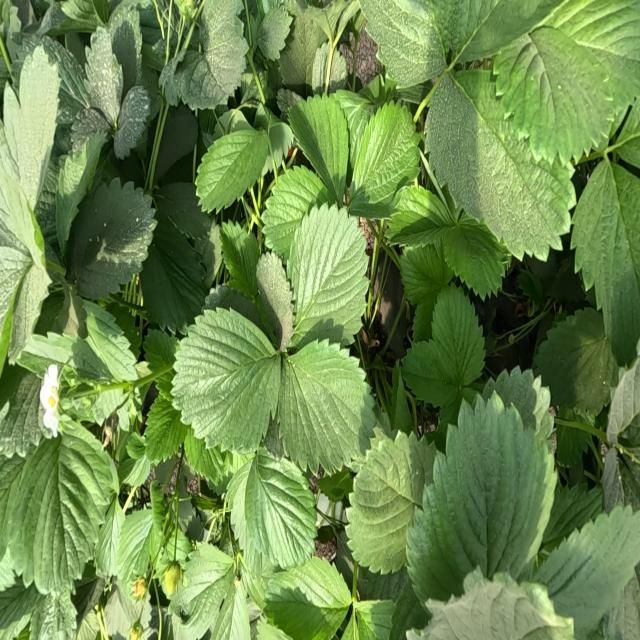Flowers: (39, 365, 59, 433), (508, 332, 515, 344)
Leaves: (425, 71, 576, 260), (434, 396, 554, 586), (3, 427, 118, 595), (493, 30, 613, 162), (173, 309, 279, 453), (533, 505, 639, 635), (571, 162, 639, 361), (278, 340, 374, 472), (346, 432, 436, 572), (1, 48, 59, 256), (290, 204, 367, 339), (69, 180, 155, 299), (16, 301, 138, 382), (542, 0, 640, 99), (166, 0, 248, 109), (534, 309, 617, 411), (245, 451, 316, 569), (140, 212, 206, 330), (11, 34, 90, 128), (361, 0, 445, 88), (196, 112, 268, 212), (350, 101, 419, 205), (265, 556, 351, 639), (433, 1, 549, 62), (430, 212, 506, 299), (289, 94, 347, 200), (56, 132, 107, 248), (263, 167, 329, 256), (226, 459, 269, 584), (482, 366, 554, 440), (180, 542, 235, 637), (432, 286, 484, 386), (115, 492, 166, 592), (542, 480, 603, 552), (386, 185, 452, 248), (85, 303, 138, 380), (279, 15, 326, 95), (85, 27, 123, 125), (0, 368, 42, 456), (402, 341, 457, 408), (256, 252, 293, 350), (220, 220, 260, 309), (153, 105, 198, 182), (334, 90, 378, 168), (114, 84, 159, 158), (154, 183, 210, 239), (400, 244, 452, 304), (144, 392, 187, 462), (606, 358, 639, 444), (110, 5, 142, 89), (143, 329, 178, 405), (602, 448, 639, 513), (184, 428, 225, 484), (30, 588, 75, 639), (1, 247, 31, 320), (211, 583, 250, 639), (389, 579, 425, 639), (556, 412, 591, 468), (257, 6, 291, 59), (354, 600, 395, 639), (61, 1, 105, 31), (518, 265, 545, 312), (121, 455, 150, 488), (311, 43, 330, 93), (328, 49, 348, 91)
Strawberries: (162, 566, 179, 596), (132, 578, 146, 599)
